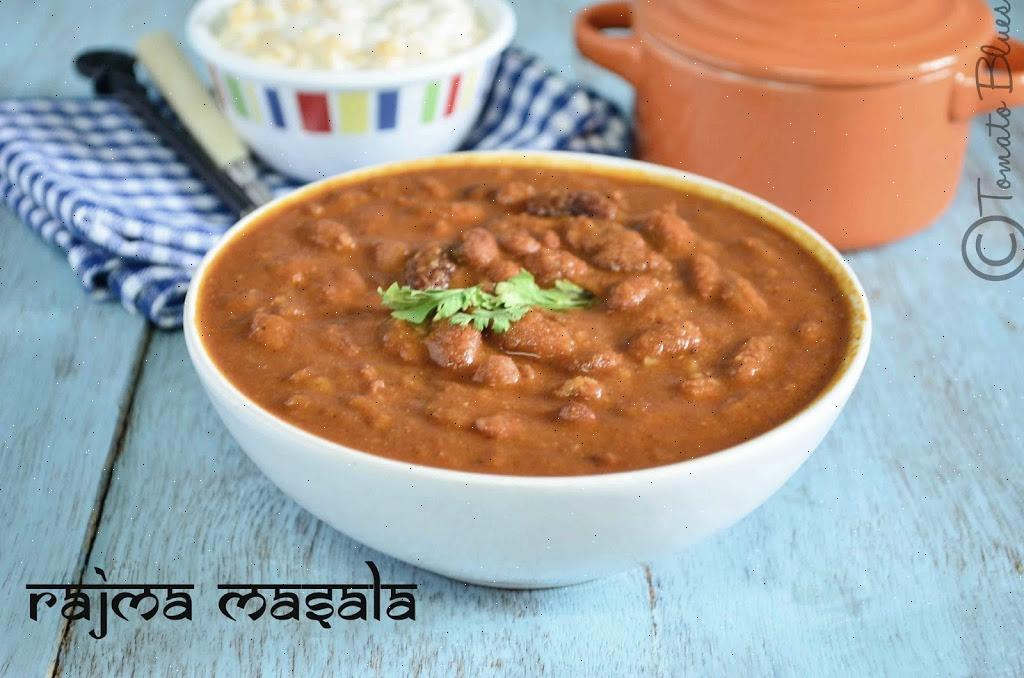rajma: (233, 195, 858, 478)
